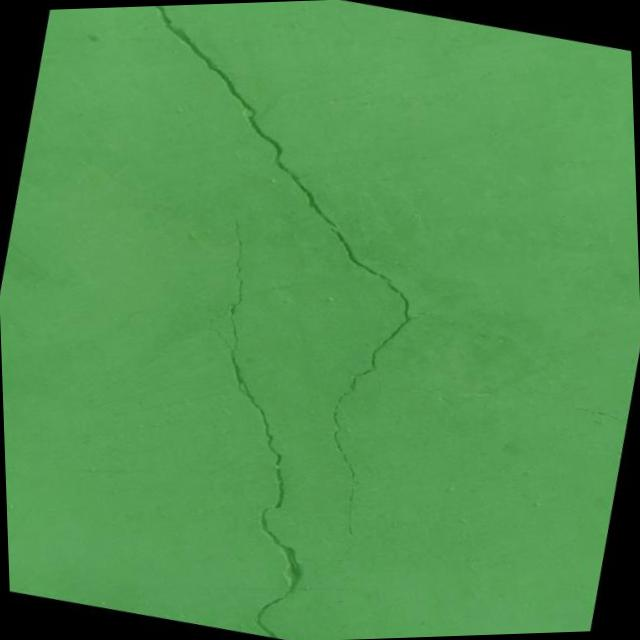crack: (50, 0, 557, 565), (144, 215, 375, 640), (474, 368, 632, 428)
